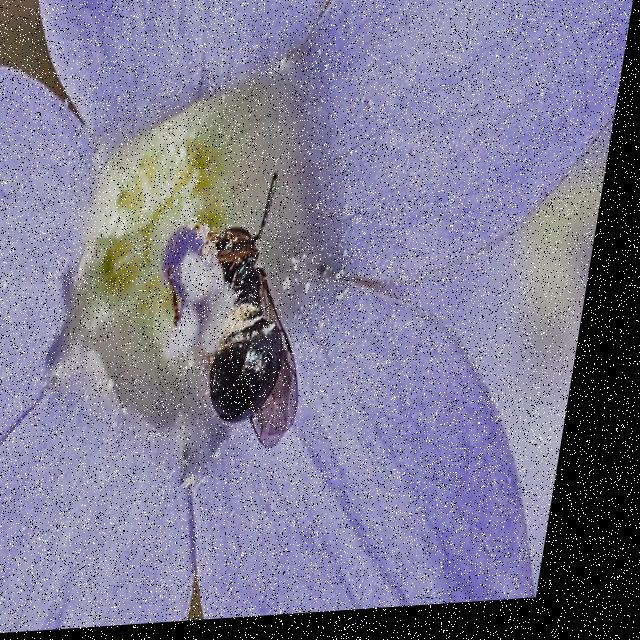Braunsapis: (177, 193, 358, 462)
